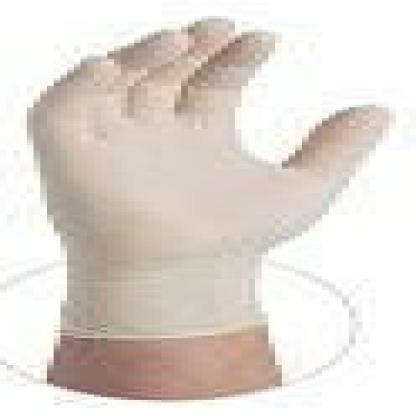with_gloves: (11, 11, 397, 345)
